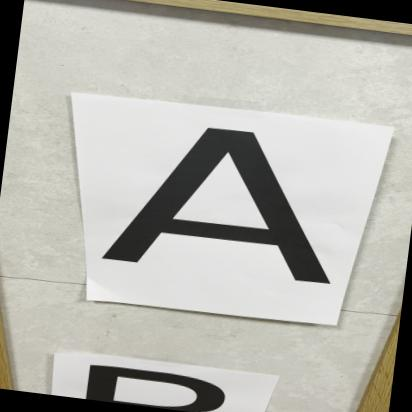seat: (90, 110, 352, 312)
